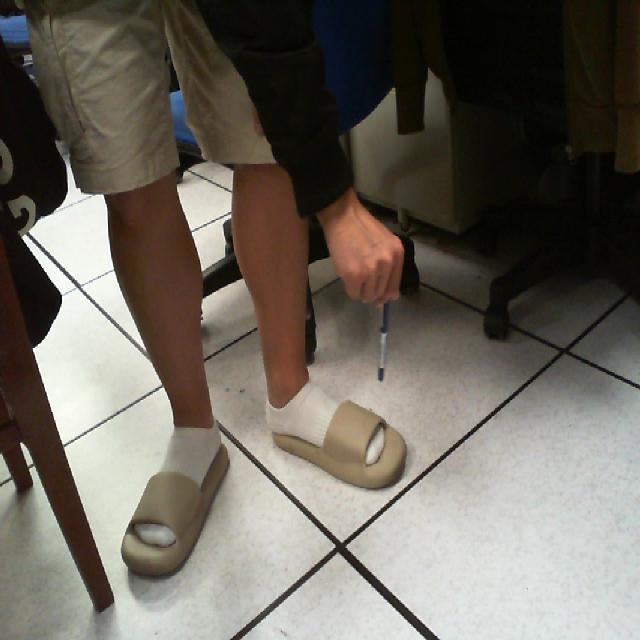Pen: (362, 258, 412, 398)
